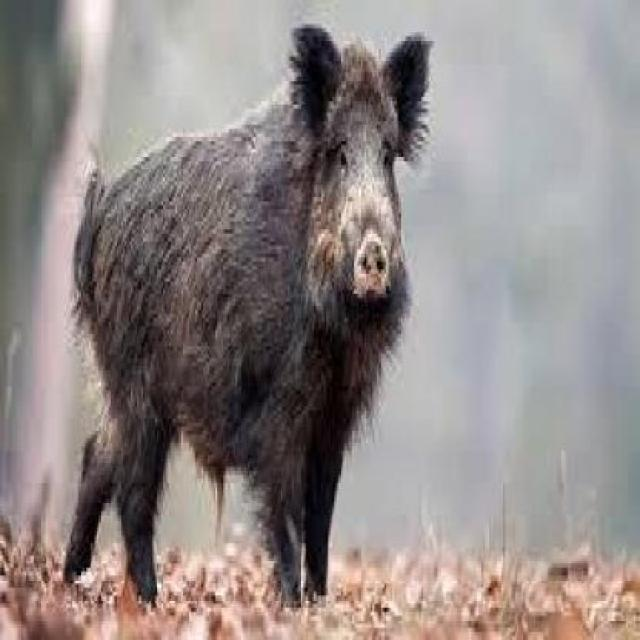wildboar: (62, 22, 435, 606)
